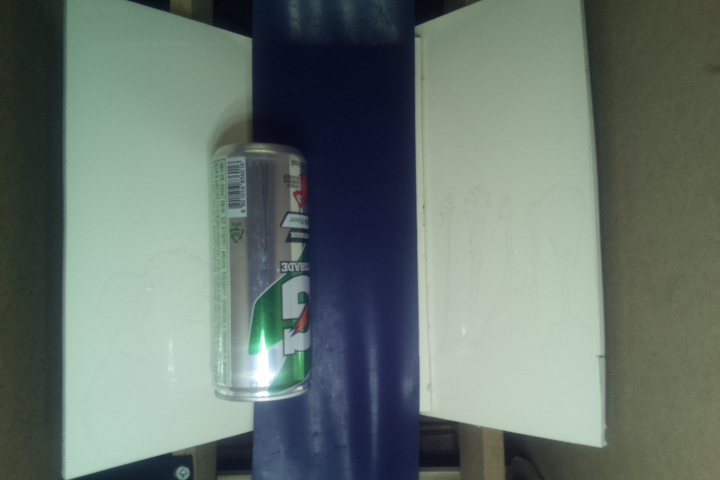can: (208, 142, 316, 402)
